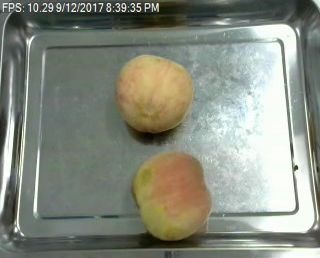Peach: (132, 150, 213, 240), (115, 53, 192, 133)
